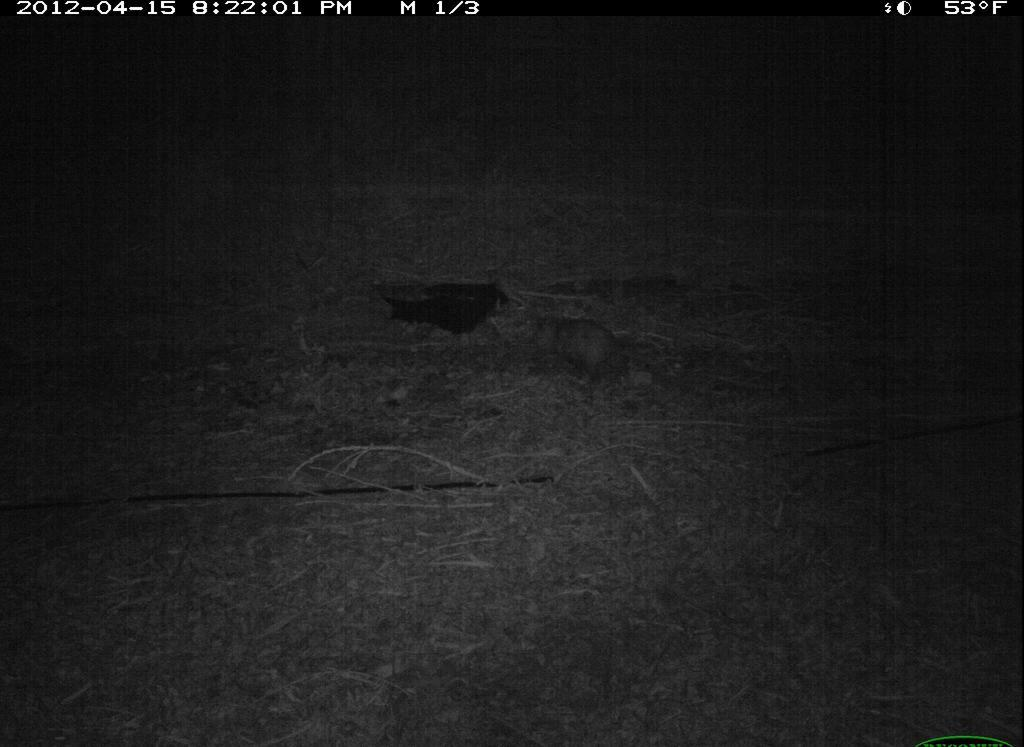opossum: (511, 303, 669, 415)
